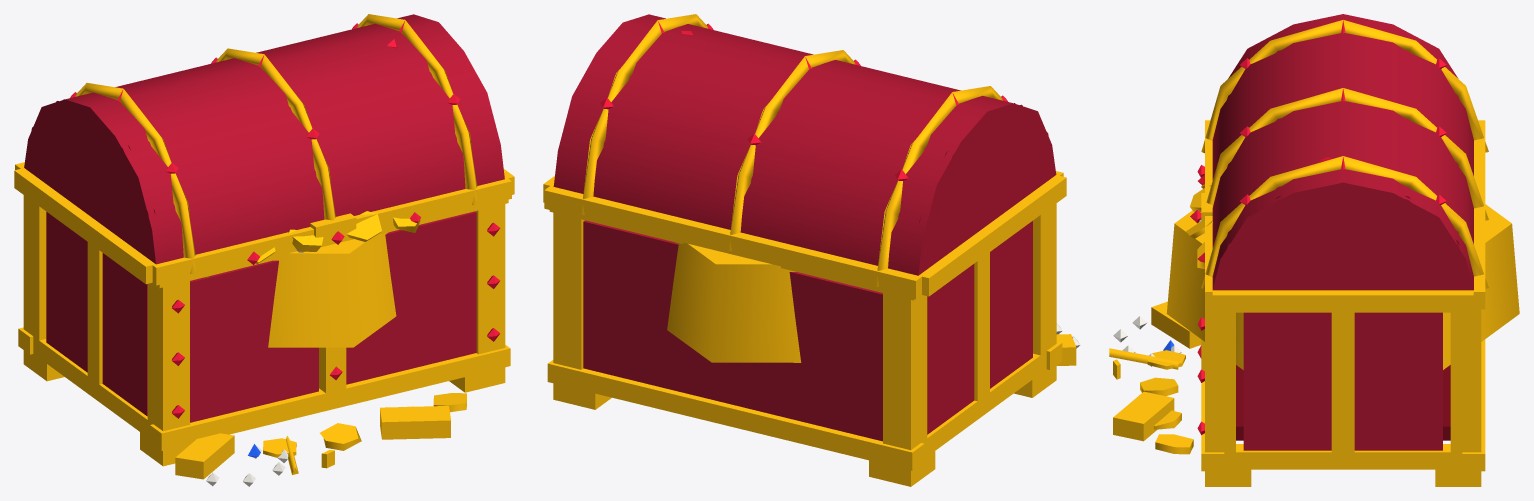
File: chest-gold.glb
3 renders of one model, left to right at view 1: azimuth 30°, elevation 25°; view 2: azimuth 150°, elevation 25°; view 3: azimuth 270°, elevation 25°, orthographic. The views are drawn at different scales.
Visible parts, largest first — view 1: base, lid; view 2: lid, base; view 3: lid, base.
Part boxes in pixels (x1,y1,x2,y2): base: (18, 39, 510, 486); lid: (14, 14, 514, 285); lid: (543, 14, 1066, 299); base: (547, 31, 1080, 486); lid: (1190, 14, 1488, 312); base: (1109, 157, 1519, 486).
Bounding box in the file's own units: 1.1 × 0.91 × 1.07.
